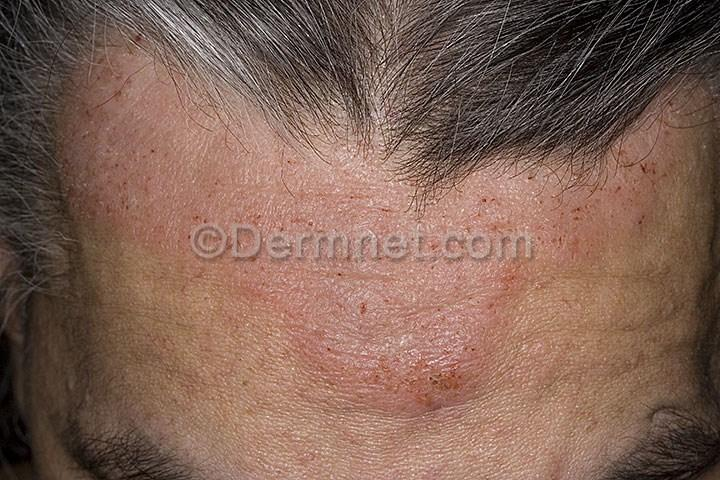Eczema: (66, 105, 261, 288), (259, 164, 437, 357), (438, 180, 589, 344), (361, 330, 482, 442), (608, 110, 689, 238)
